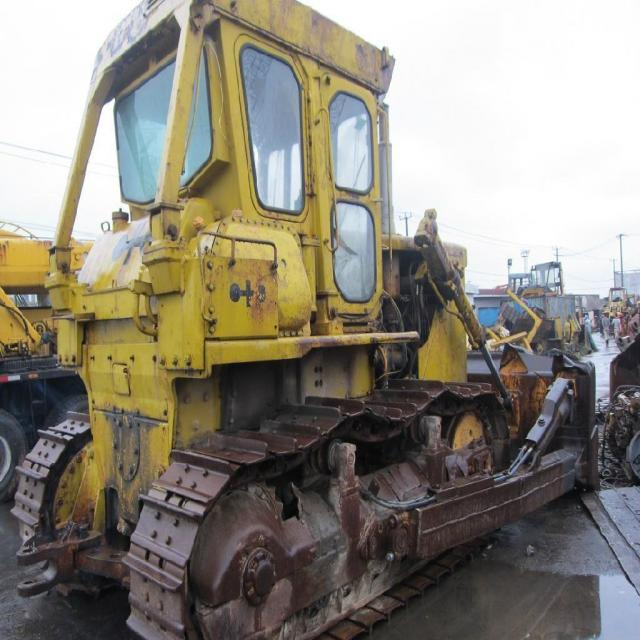Bulldozer: (16, 2, 628, 639)
